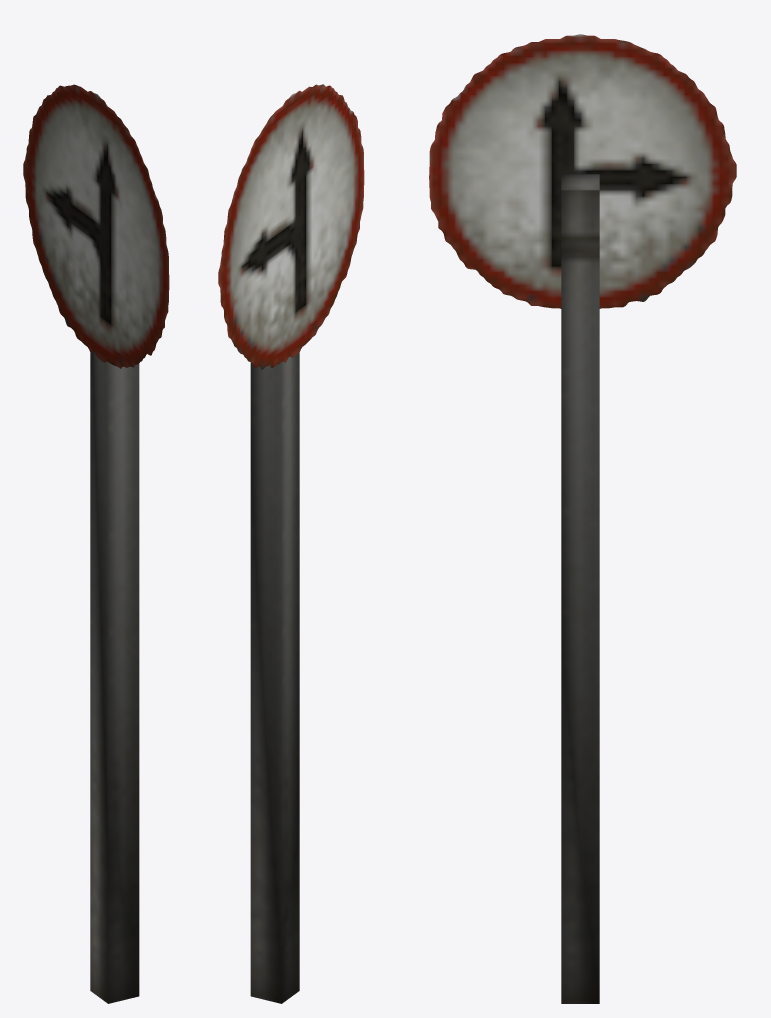
Rendered from roadsign4.fbx.
The picture shows the model from 3 angles, left to right: view 1: azimuth 30°, elevation 25°; view 2: azimuth 150°, elevation 25°; view 3: azimuth 270°, elevation 25°; orthographic projection. The views are drawn at different scales.
Parts seen in each view (by area): view 1: roadsign4; view 2: roadsign4; view 3: roadsign4.
Boxes of the visible parts, box(x1,y1,x2,y2) form: roadsign4: box(23, 84, 169, 1003); roadsign4: box(218, 84, 364, 1003); roadsign4: box(429, 34, 736, 1003).
Size of the model in its own units: 11.4 by 100 by 305.
Materials: 1 (1 with a texture image).
